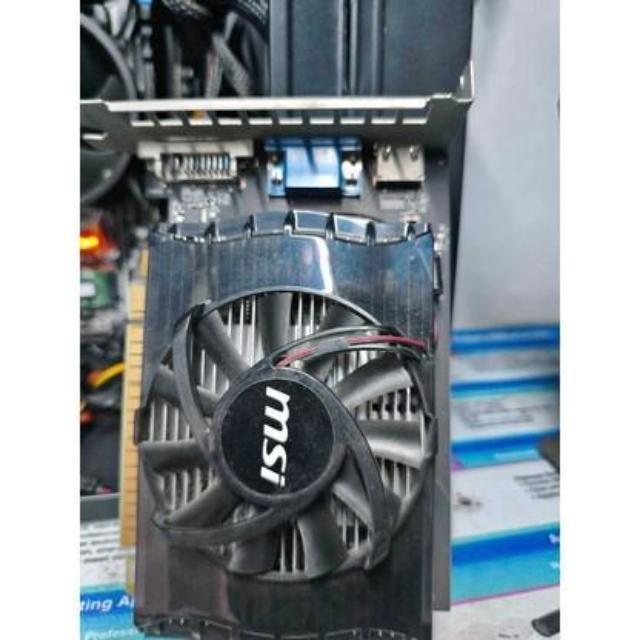GPU: (98, 83, 456, 640)
